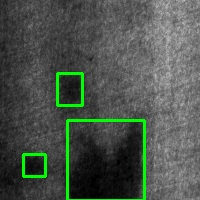patches: (67, 120, 144, 200), (57, 73, 82, 105), (23, 154, 45, 176)
